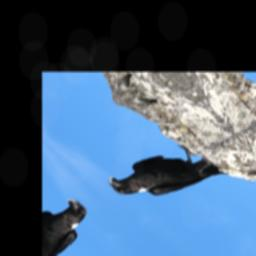Crow: (101, 133, 230, 221)
